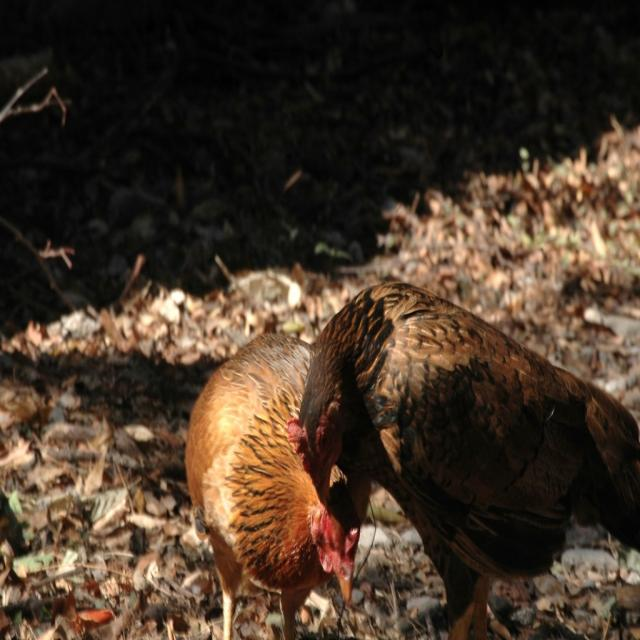Chicken: (286, 283, 640, 639), (187, 311, 366, 640)
